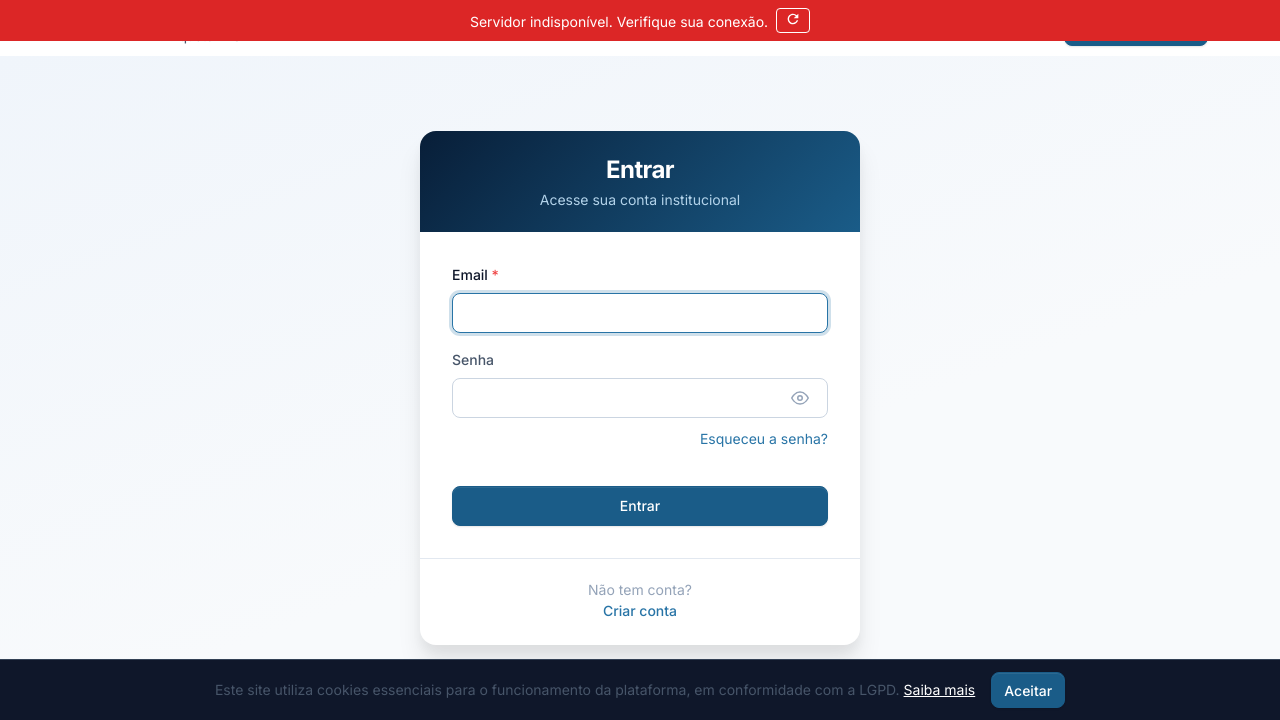
Authentication › navigates to forgot-password page
Click the link to "/forgot-password". click: {"x": 764, "y": 439}
box: [700, 430, 828, 447]
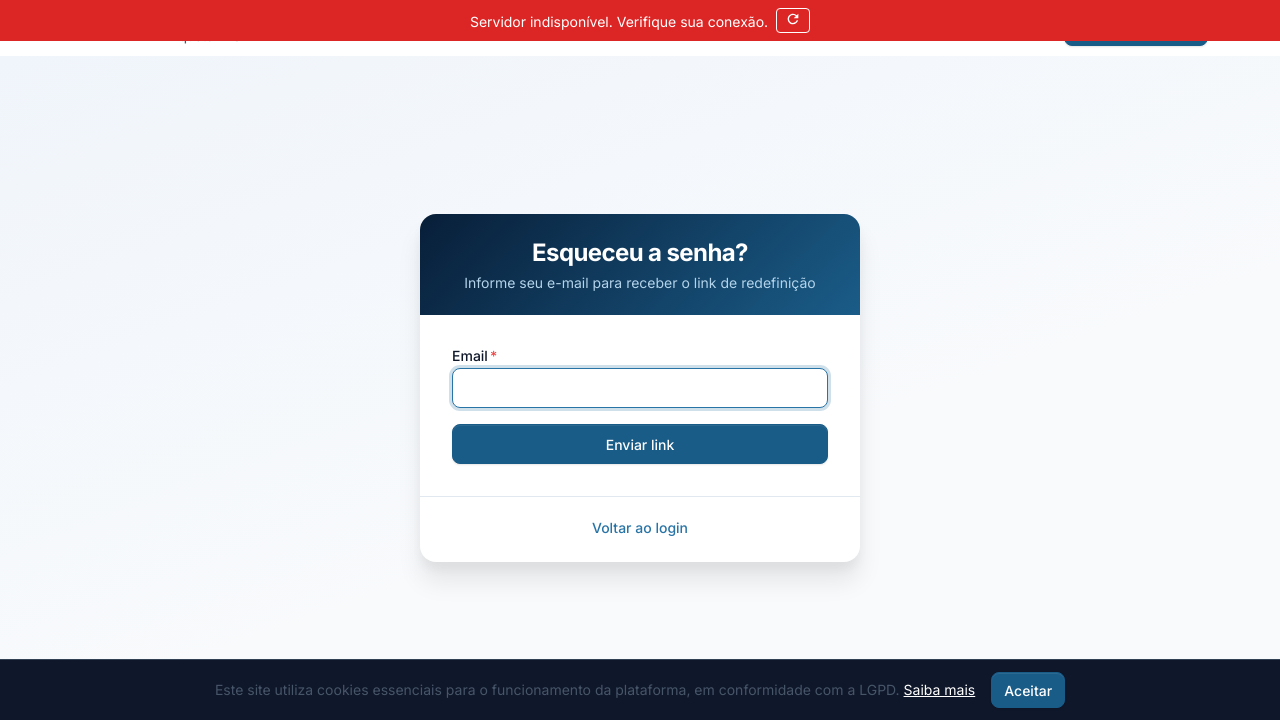
expect the field labelled "Email*" is shown: met, box [452, 368, 828, 408]
